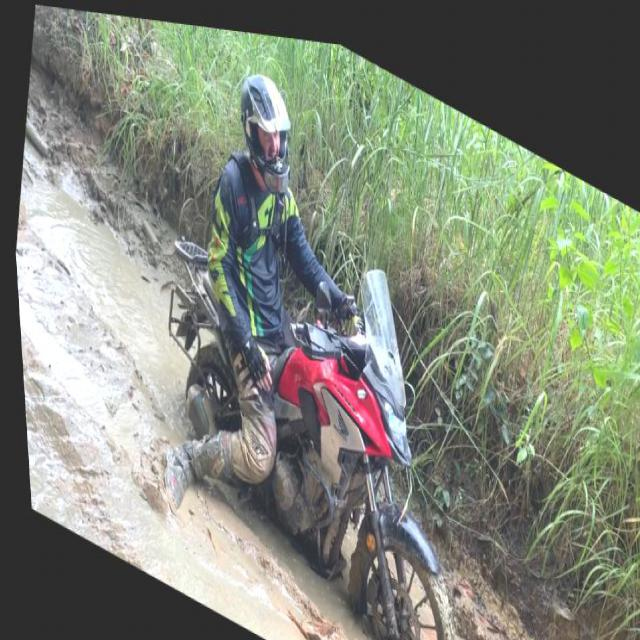CB500X: (143, 146, 500, 638)
